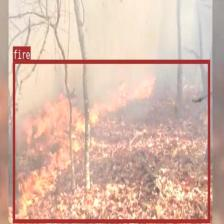fire: (13, 60, 210, 222)
